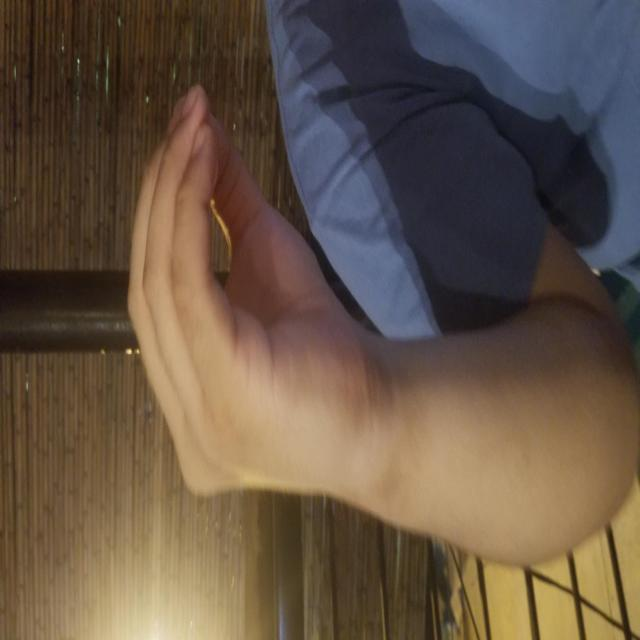O: (142, 128, 558, 348)
